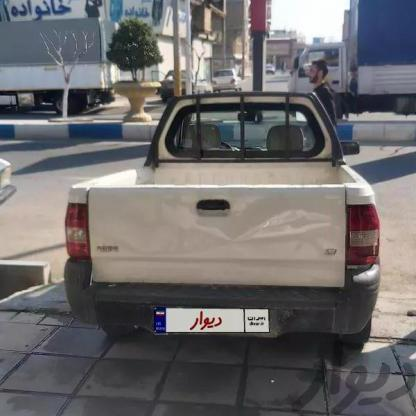Car: (62, 93, 394, 359), (165, 71, 207, 101), (207, 72, 238, 92), (260, 62, 278, 79)
Truck: (280, 0, 416, 139), (0, 2, 116, 127)
